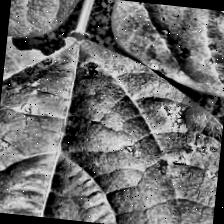ALS: (0, 44, 224, 224), (108, 0, 224, 104), (7, 0, 84, 46)
